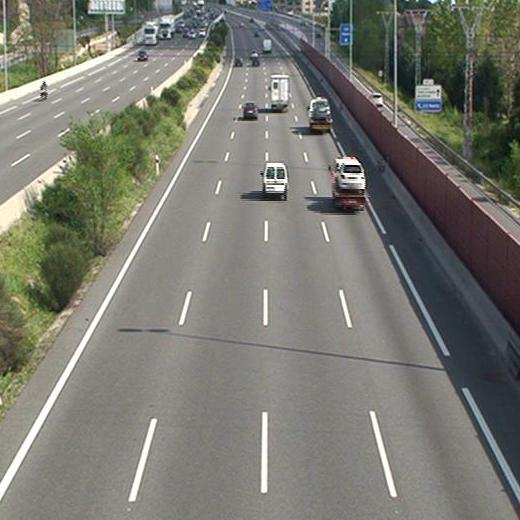car: (336, 157, 365, 194), (313, 102, 330, 121), (243, 103, 258, 119)
small-truck: (329, 156, 369, 212), (308, 98, 335, 133), (268, 74, 292, 111)
van: (259, 163, 290, 198)
